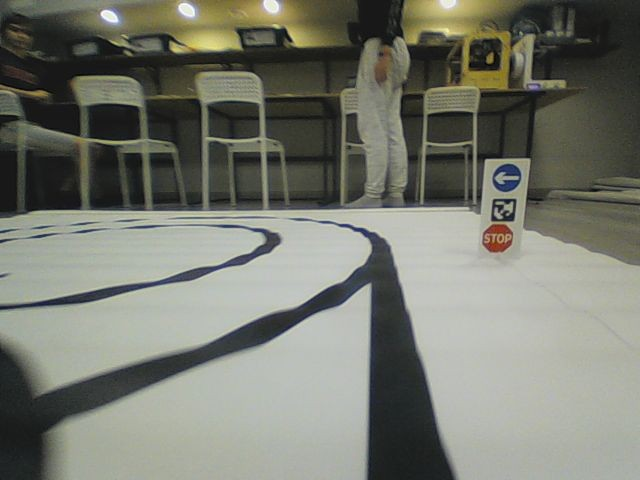Stop: (480, 222, 515, 254)
